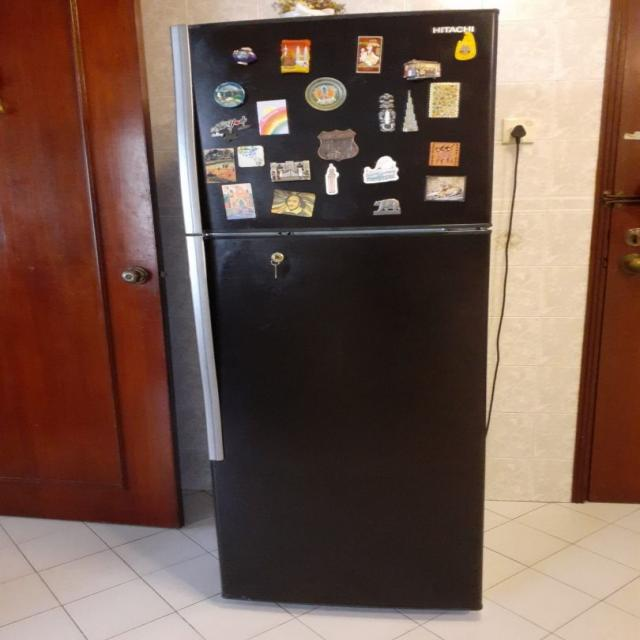refrigerator: (169, 7, 502, 615)
